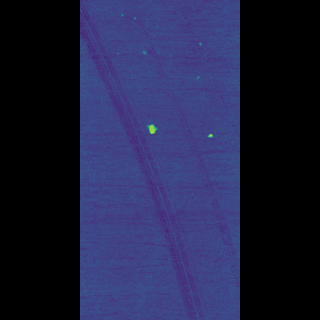Loch: (117, 1, 185, 320), (144, 14, 200, 304), (152, 122, 160, 136), (183, 132, 188, 139)
